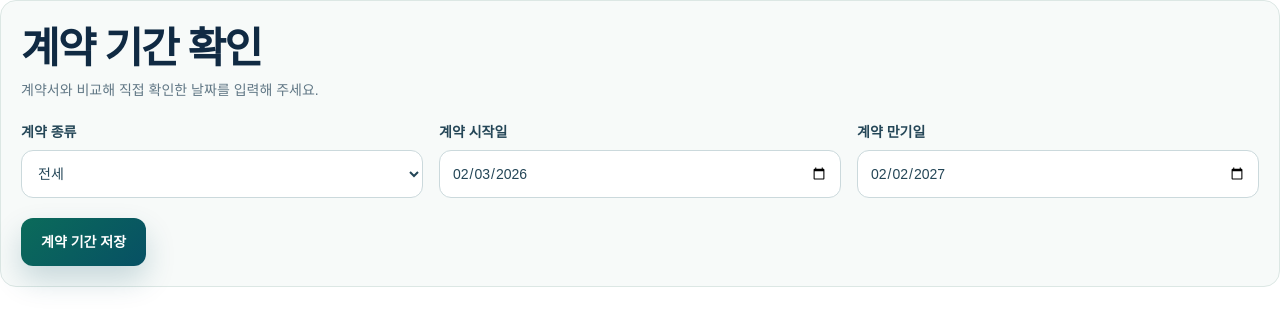
Test: ContractForm › TEST-ZH-UI-006 submits once and reports a safe server failure
Step 1. Click the button "계약 기간 저장" → (84, 242), box [21, 218, 146, 266]
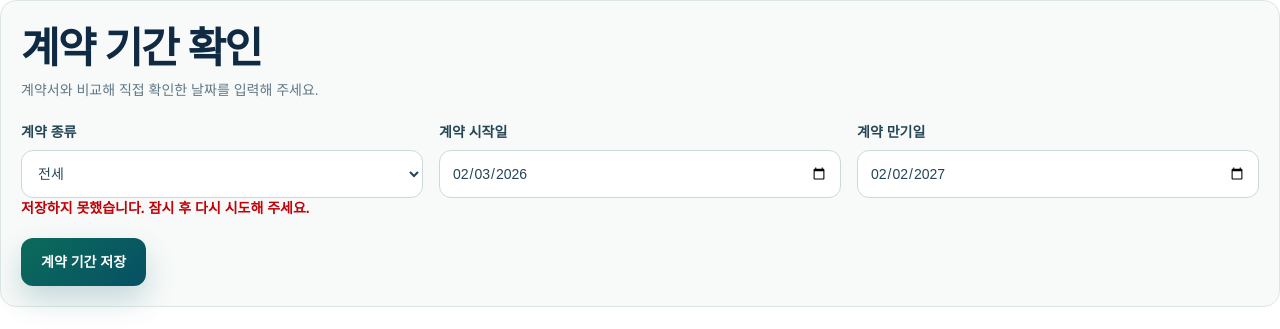
Expected: the message shows "저장하지 못했습니다", [21, 200, 310, 216]
